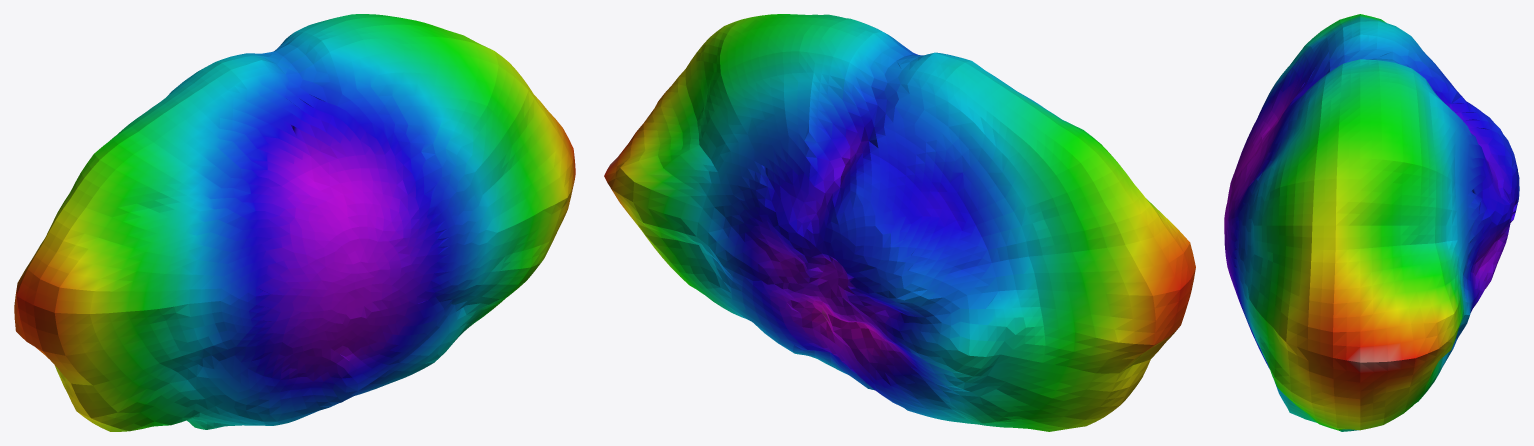
The model's file is Prometheus-Hi.fbx.
3 renders of one model, left to right at view 1: azimuth 30°, elevation 25°; view 2: azimuth 150°, elevation 25°; view 3: azimuth 270°, elevation 25°, orthographic.
Visible parts, largest first — view 1: Prometheus-Hi; view 2: Prometheus-Hi; view 3: Prometheus-Hi.
Boxes of the visible parts, x1=… form: Prometheus-Hi: x1=14, y1=14, x2=575, y2=431; Prometheus-Hi: x1=604, y1=14, x2=1195, y2=431; Prometheus-Hi: x1=1224, y1=14, x2=1519, y2=431.
Size of the model in its own units: 6833 by 9269 by 14850.
